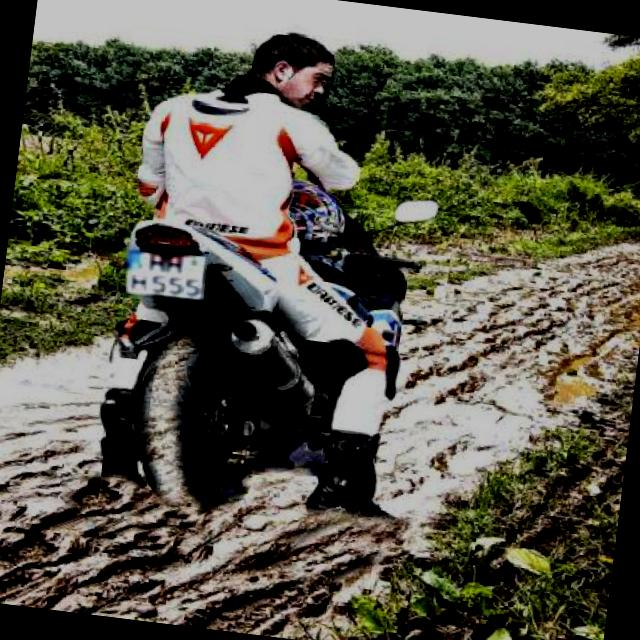Person: (84, 6, 446, 529)
